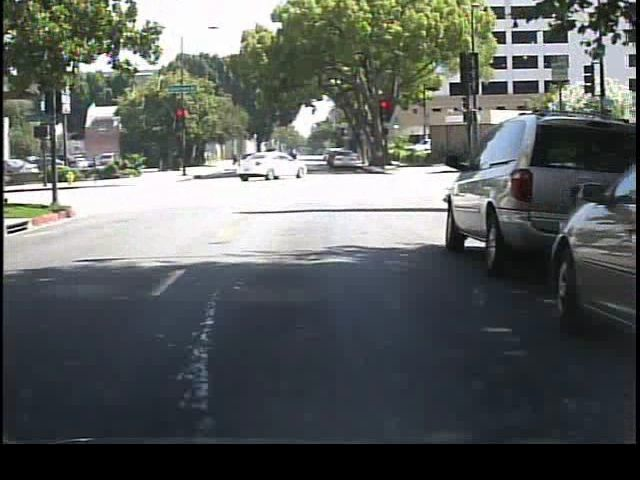person: (286, 142, 303, 176)
